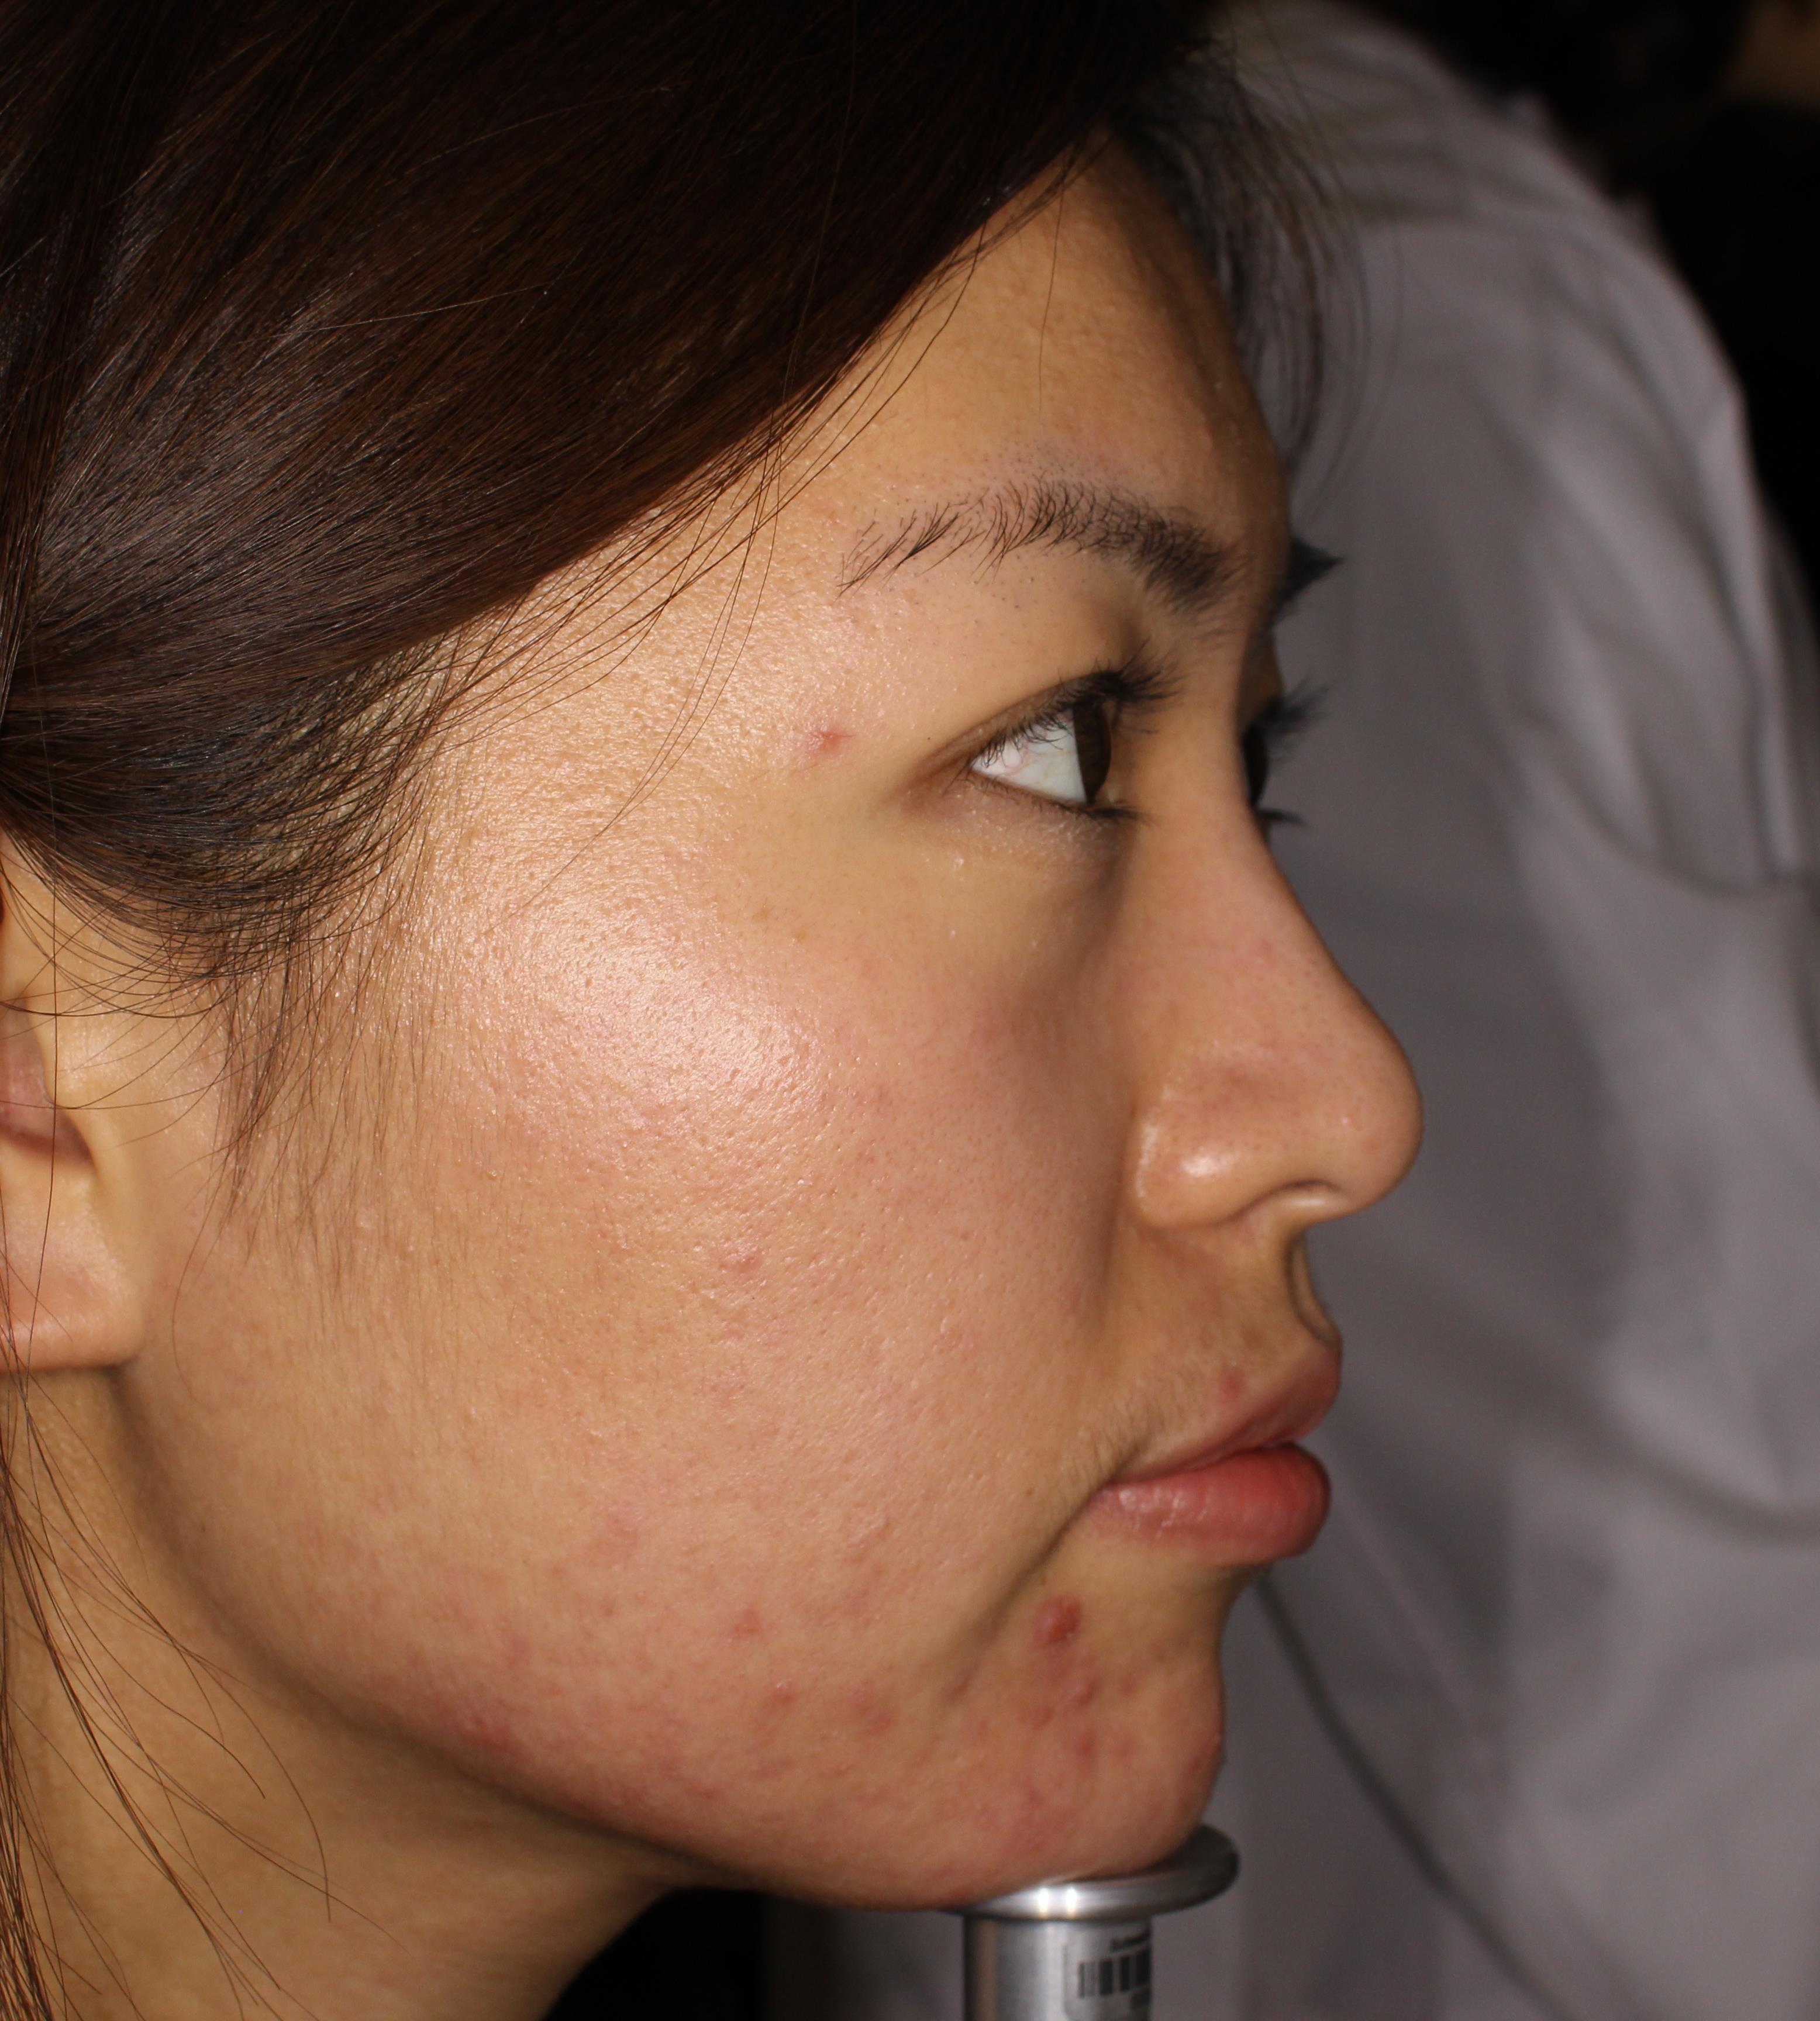fore: (459, 1693, 539, 1782), (1054, 1710, 1158, 1777), (745, 1652, 826, 1733), (834, 1675, 915, 1754), (704, 1580, 785, 1658), (1031, 1649, 1112, 1719), (1019, 1586, 1094, 1643)
